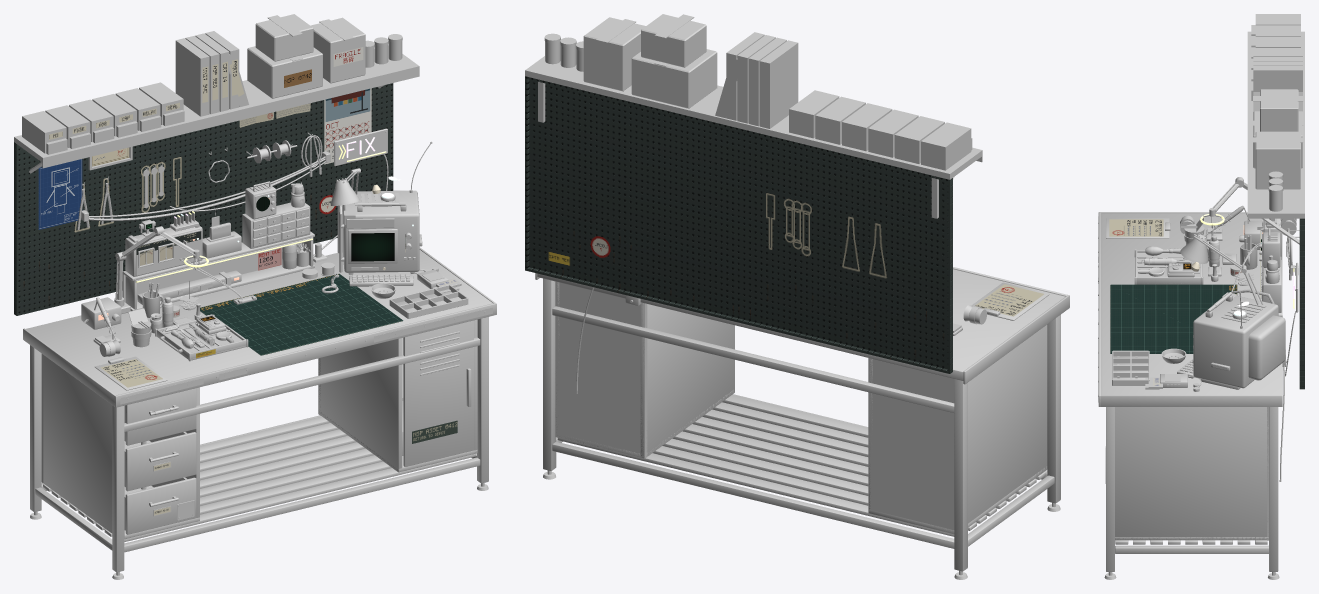
The model's file is RepairBenchV2.fbx.
3 renders of one model, left to right at view 1: azimuth 30°, elevation 25°; view 2: azimuth 150°, elevation 25°; view 3: azimuth 270°, elevation 25°, orthographic. The views are drawn at different scales.
Parts seen in each view (by area): view 1: BV2_Pegboard, BV2_Frame, BV2_ShelfGoods, BV2_Top, BV2_Pedestal, BV2_Mat, BV2_Cabinet, BV2_CabinetDoor, BV2_WallPrints, BV2_WallShelf, BV2_TopLip, BV2_Riser (+23 smaller); view 2: BV2_Pegboard, BV2_Frame, BV2_ShelfGoods, BV2_Pedestal, BV2_Cabinet, BV2_Top, BV2_WallShelf, BV2_TopLip, BV2_WorkOrder; view 3: BV2_Cabinet, BV2_ShelfGoods, BV2_Top, BV2_Crt, BV2_Mat, BV2_Frame, BV2_TopLip, BV2_WallShelf, BV2_PartsTray, BV2_ToolTray, BV2_Pegboard, BV2_WorkOrder (+18 smaller).
Part boxes in pixels (box(x1,y1,x2,y2)): BV2_Pegboard: box(14, 83, 393, 315); BV2_Frame: box(30, 317, 488, 572); BV2_ShelfGoods: box(22, 14, 402, 154); BV2_Top: box(26, 250, 492, 395); BV2_Pedestal: box(41, 354, 199, 539); BV2_Mat: box(200, 273, 403, 355); BV2_Cabinet: box(318, 319, 477, 472); BV2_CabinetDoor: box(403, 320, 473, 466); BV2_WallPrints: box(38, 47, 371, 229); BV2_WallShelf: box(14, 46, 419, 173); BV2_TopLip: box(23, 247, 496, 407); BV2_Riser: box(122, 231, 314, 311); BV2_Pegboard: box(525, 76, 952, 373); BV2_Frame: box(543, 278, 1060, 571); BV2_ShelfGoods: box(544, 14, 972, 170); BV2_Pedestal: box(868, 325, 1047, 534); BV2_Cabinet: box(555, 281, 734, 458); BV2_Top: box(537, 269, 1064, 380); BV2_WallShelf: box(525, 56, 982, 218); BV2_TopLip: box(535, 267, 1069, 384); BV2_WorkOrder: box(975, 284, 1043, 316); BV2_Cabinet: box(1115, 407, 1268, 540); BV2_ShelfGoods: box(1251, 14, 1303, 211); BV2_Top: box(1101, 213, 1282, 395); BV2_Crt: box(1193, 295, 1285, 389); BV2_Mat: box(1110, 284, 1237, 353); BV2_Frame: box(1106, 407, 1278, 571); BV2_TopLip: box(1098, 212, 1282, 406); BV2_WallShelf: box(1247, 31, 1304, 244); BV2_PartsTray: box(1112, 350, 1149, 385); BV2_ToolTray: box(1134, 249, 1203, 284); BV2_Pegboard: box(1299, 218, 1304, 389); BV2_WorkOrder: box(1109, 219, 1163, 236).
Bounding box in the file's own units: 1.96 × 2.07 × 0.913.
